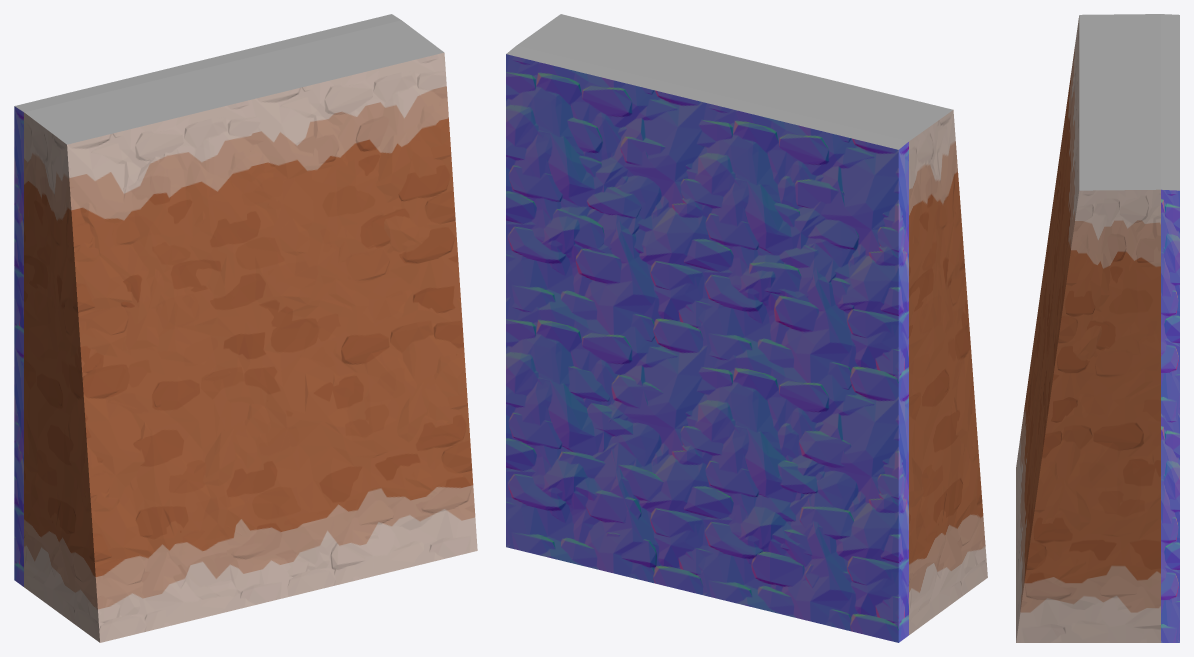
File: SM_Bld_Wall_Ground_01.fbx
The picture shows the model from 3 angles, left to right: view 1: azimuth 30°, elevation 25°; view 2: azimuth 150°, elevation 25°; view 3: azimuth 270°, elevation 25°; orthographic projection. The views are drawn at different scales.
Visible parts, largest first — view 1: SM_Bld_Wall_Ground_01; view 2: SM_Bld_Wall_Ground_01; view 3: SM_Bld_Wall_Ground_01.
Boxes of the visible parts, x1=… form: SM_Bld_Wall_Ground_01: x1=14, y1=14, x2=477, y2=642; SM_Bld_Wall_Ground_01: x1=506, y1=14, x2=987, y2=642; SM_Bld_Wall_Ground_01: x1=1016, y1=14, x2=1179, y2=642.
Size of the model in its own units: 250 by 301 by 98.39.
